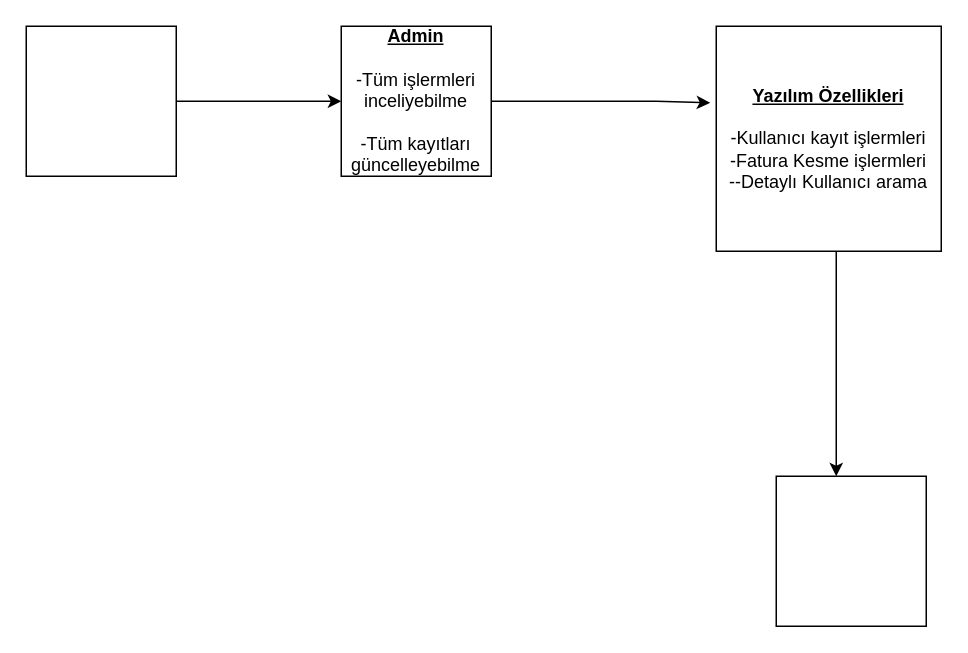
The diagram is 968 pixels wide and 653 high, and some of its shapes have lost their labels. Here are the shapes that lost their labels. From the top down, the box of each, then its label:
(25, 25, 176, 176): Basic User -Cari İşlemler -Fatura Kesme -Kullanıcı Kaydı
(775, 475, 926, 626): Veri Tabanı -Mysql -Esnek arma -Kullanıcı indexleme
